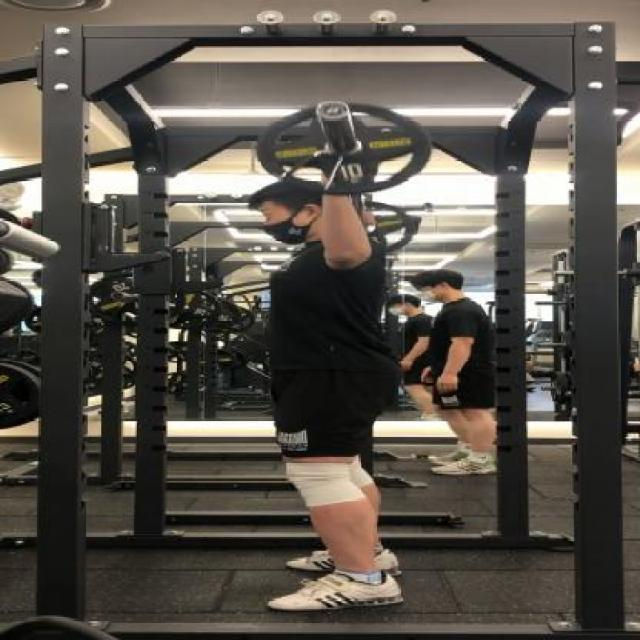Barbell: (315, 98, 354, 122)
